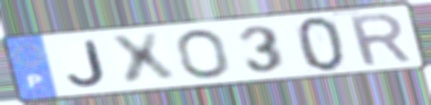0: (294, 15, 348, 73)
3: (235, 23, 286, 75)
J: (65, 39, 109, 88)
O: (174, 28, 233, 80)
R: (345, 10, 416, 68)
X: (105, 30, 181, 89)
